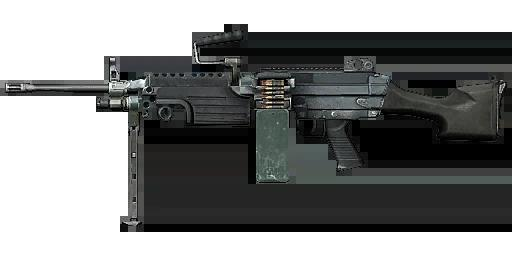larga: (4, 29, 508, 227)
